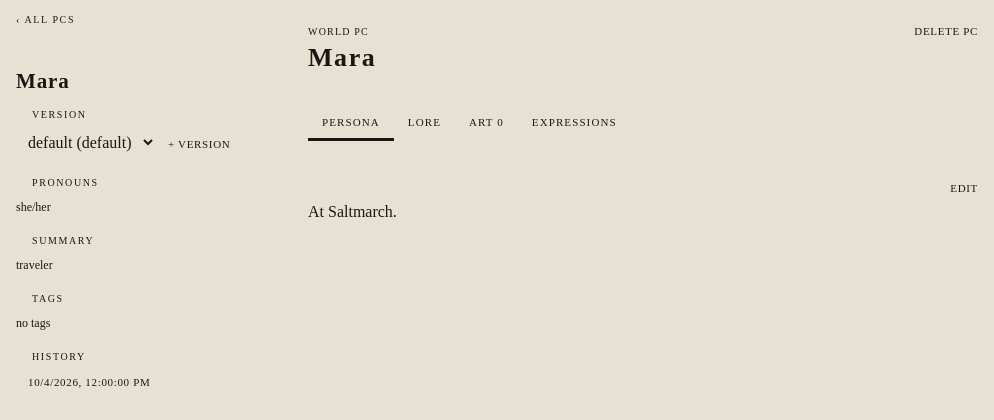
it: Back to current leaves a preview without restoring
Expected: the heading "Mara" below "World PC" is shown, x1=308 y1=44 x2=376 y2=72
Click the button "10/4/2026, 12:00:00 PM" at (137, 382), box x1=16 y1=370 x2=258 y2=394
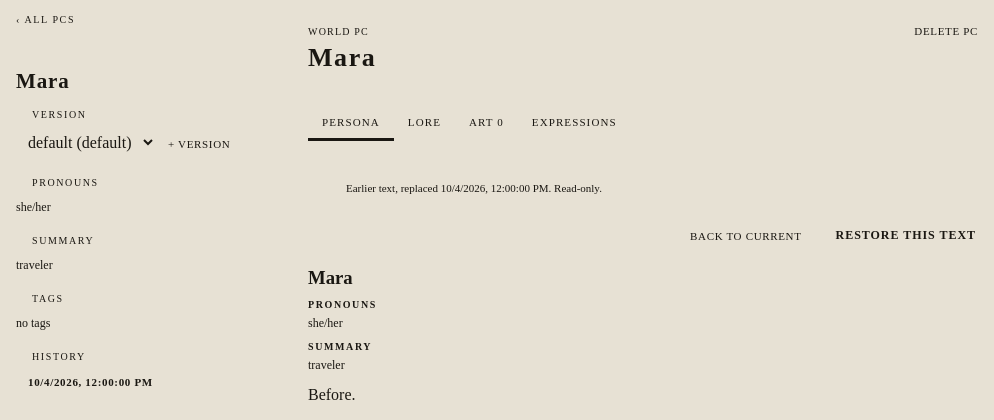
Now the text "Before." is shown, box x1=308 y1=386 x2=356 y2=403
Click the button "Back to current" at (746, 236), box x1=678 y1=220 x2=814 y2=251
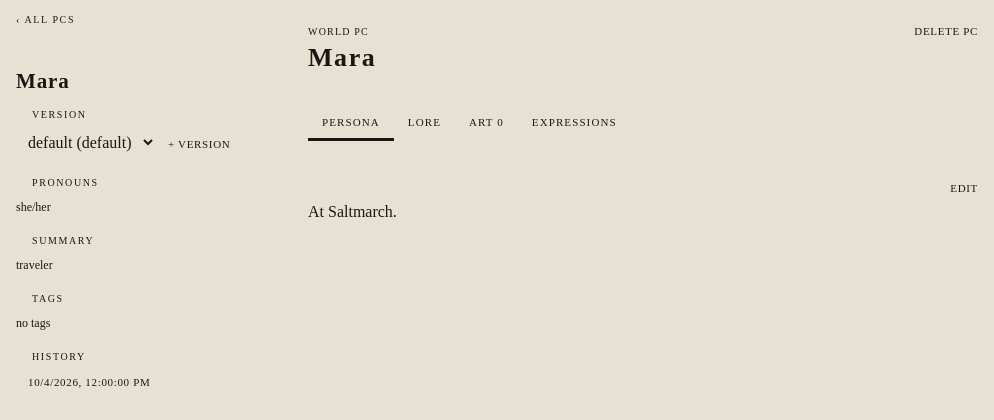
Now the text "At Saltmarch." is shown, box x1=308 y1=203 x2=397 y2=220
